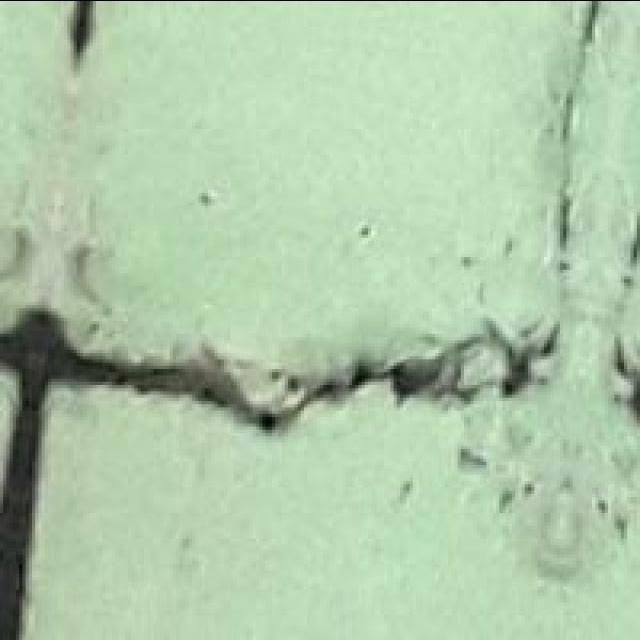SurfaceCrack: (0, 190, 576, 640)
